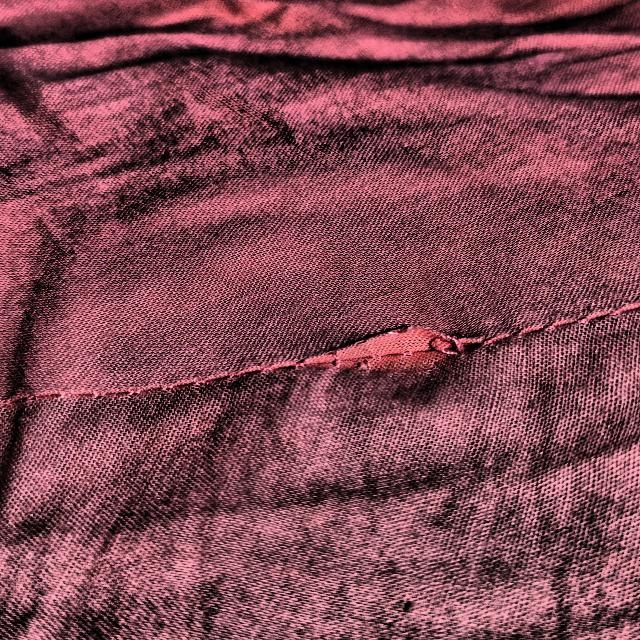seam: (209, 254, 553, 441)
